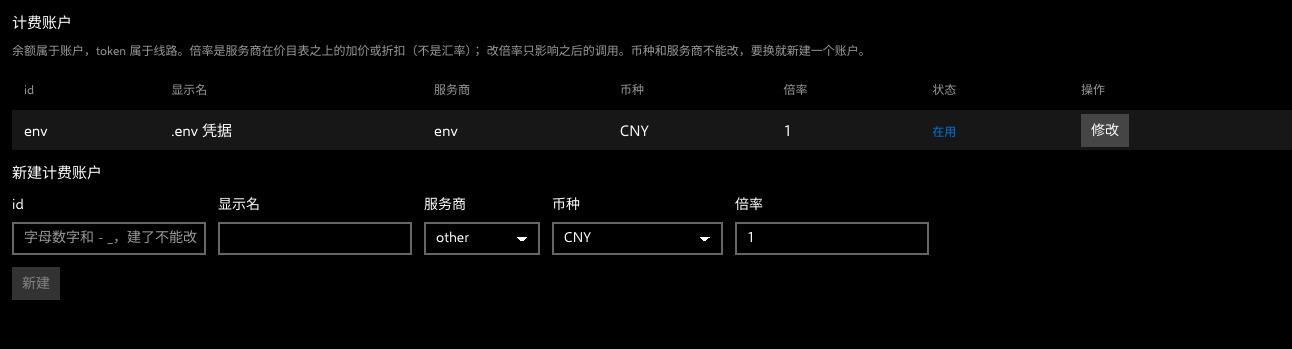
it: 计费账户 › 新建失败：表单留着，照服务端那句话说
This screenshot has width=1292, height=349.
Type "old" into the field labelled "id" at {"x": 109, "y": 238}, box [12,222,206,255]
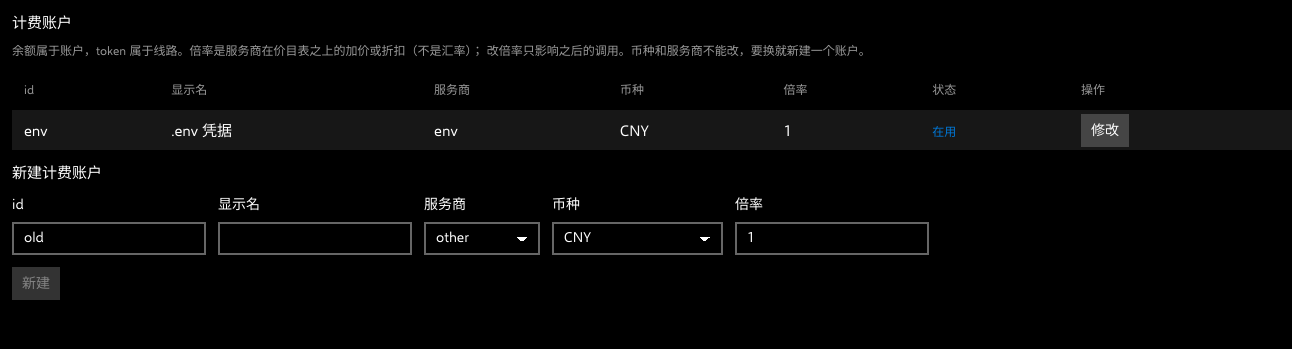
Type "旧的" into the field labelled "显示名" at {"x": 315, "y": 238}, box [218,222,412,255]
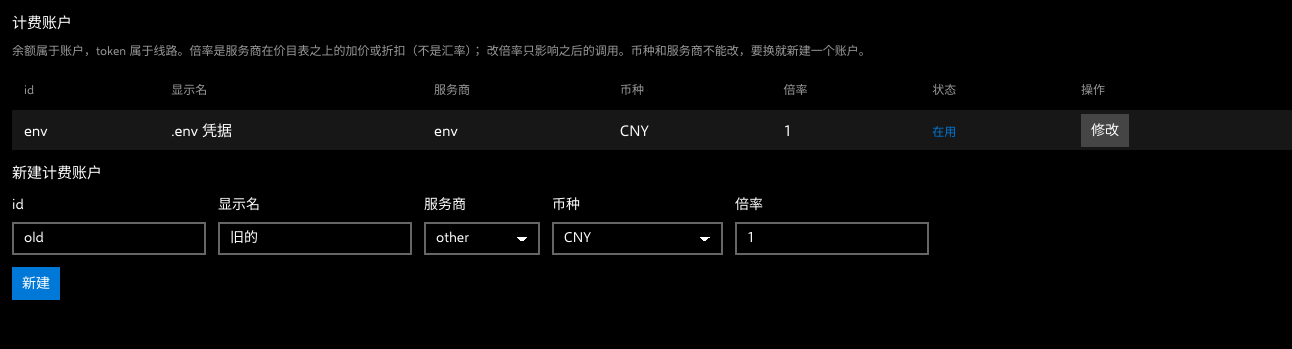
Click the button "新建" at {"x": 36, "y": 284}, box [12,267,60,300]
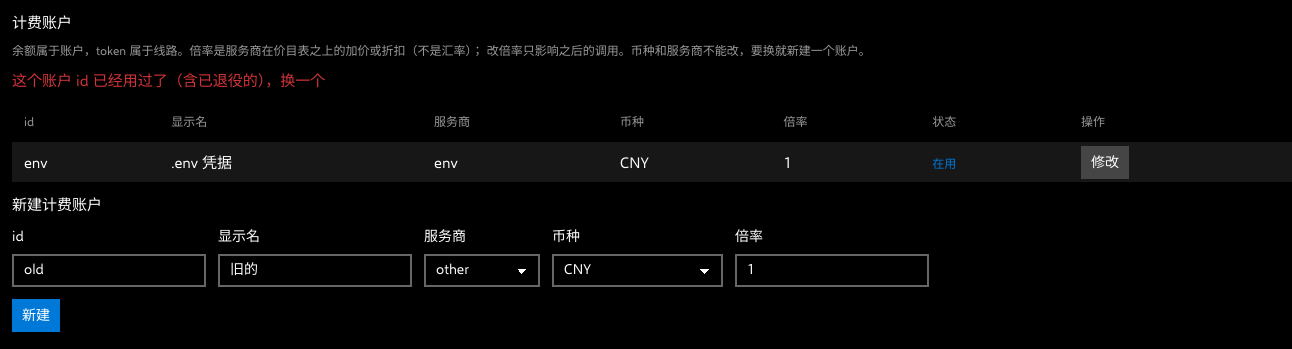
Check: the text "这个账户 id 已经用过了（含已退役的），换一个" is shown, box [12,71,325,89]
